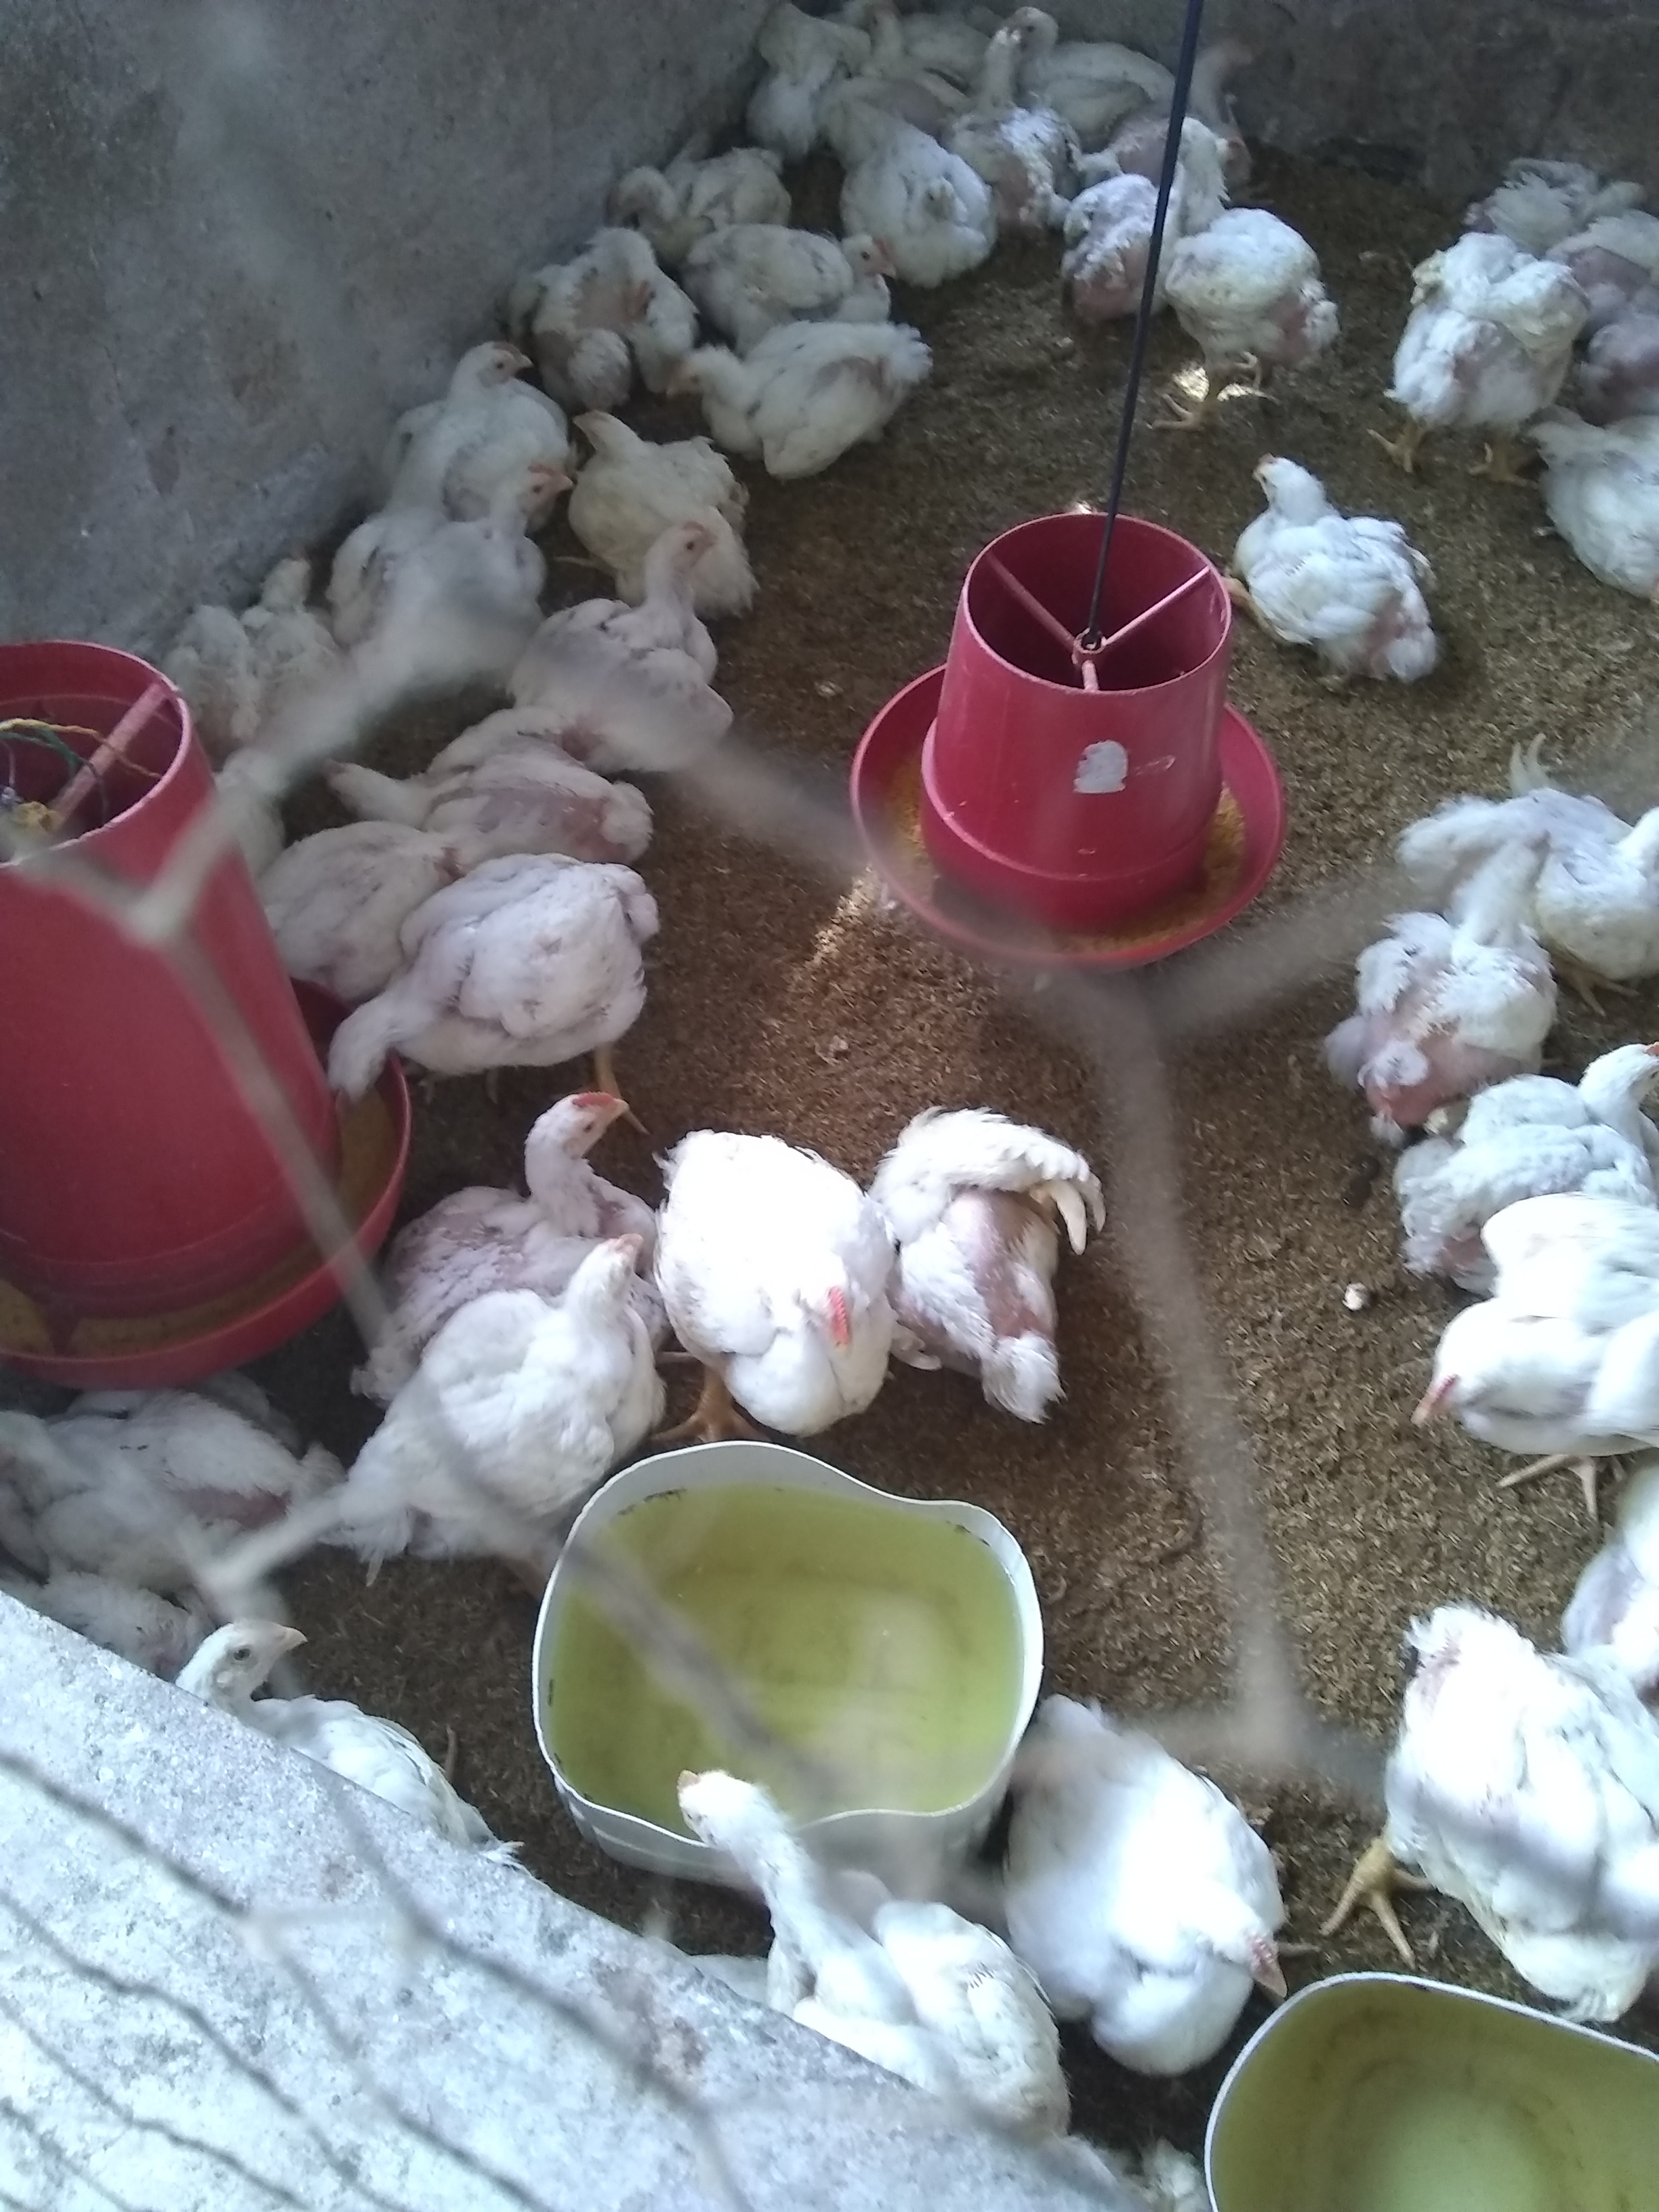Pollos: (336, 1224, 659, 1580), (655, 1771, 1060, 2031), (333, 834, 662, 1087), (1042, 1738, 1302, 2034), (871, 1106, 1107, 1423), (1403, 1193, 1659, 1467), (648, 1143, 897, 1413), (1345, 817, 1574, 1109), (1215, 444, 1460, 690), (676, 300, 936, 467), (540, 517, 723, 752), (1399, 228, 1581, 441), (399, 441, 558, 672), (1171, 141, 1335, 350), (992, 3, 1190, 122), (500, 1076, 633, 1233), (850, 138, 995, 272), (413, 333, 594, 437), (612, 127, 793, 228)
